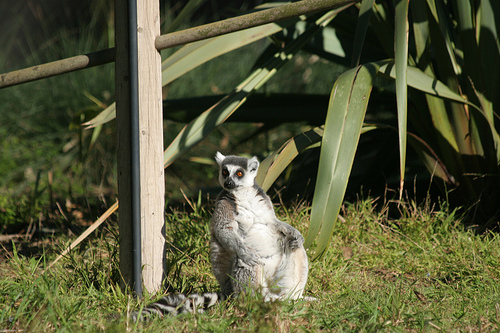cat: (110, 152, 311, 327)
